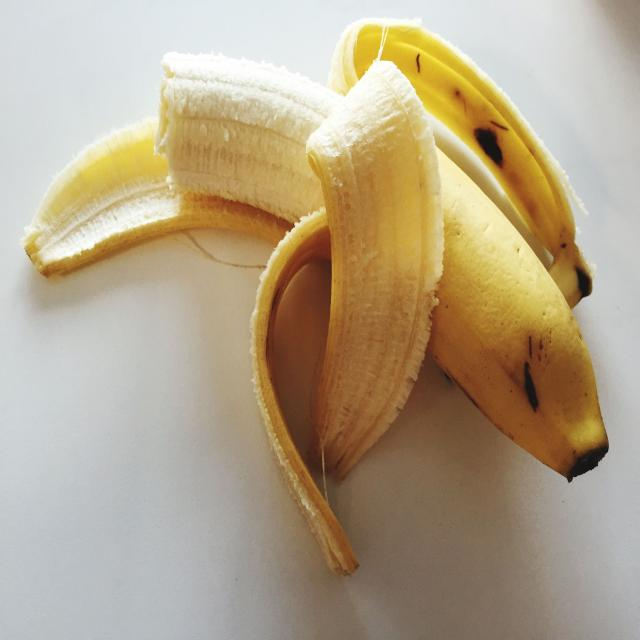banana_peel: (16, 1, 616, 610)
